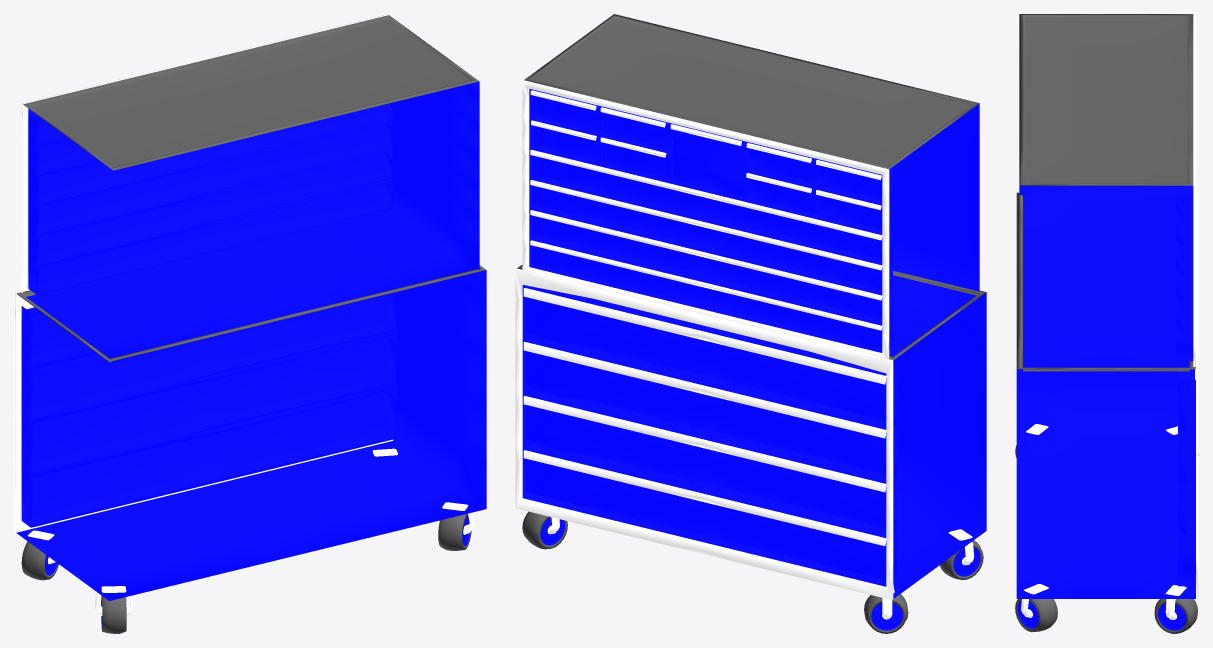
File: toolbox.glb
3 renders of one model, left to right at view 1: azimuth 30°, elevation 25°; view 2: azimuth 150°, elevation 25°; view 3: azimuth 270°, elevation 25°, orthographic. The views are drawn at different scales.
Parts seen in each view (by area): view 1: Fake; view 2: Fake; view 3: Fake.
Part boxes in pixels (x1,y1,x2,y2): Fake: [14, 14, 486, 633]; Fake: [515, 14, 986, 633]; Fake: [1015, 14, 1198, 633].
Bounding box in the file's own units: 291 × 344 × 127.
